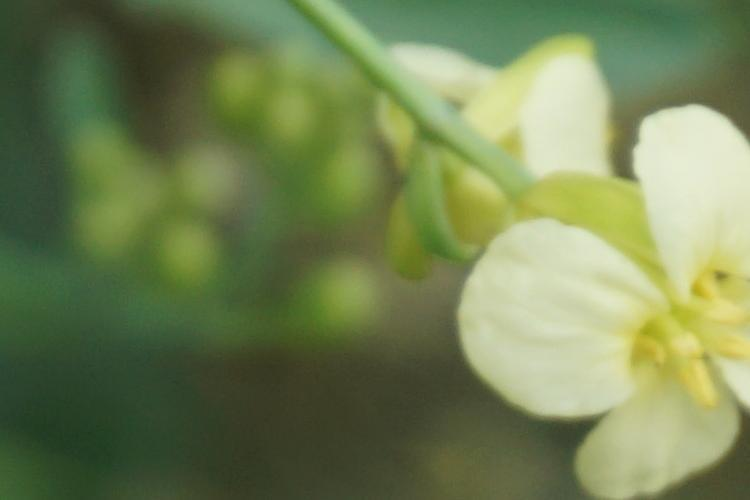white: (477, 106, 750, 483)
